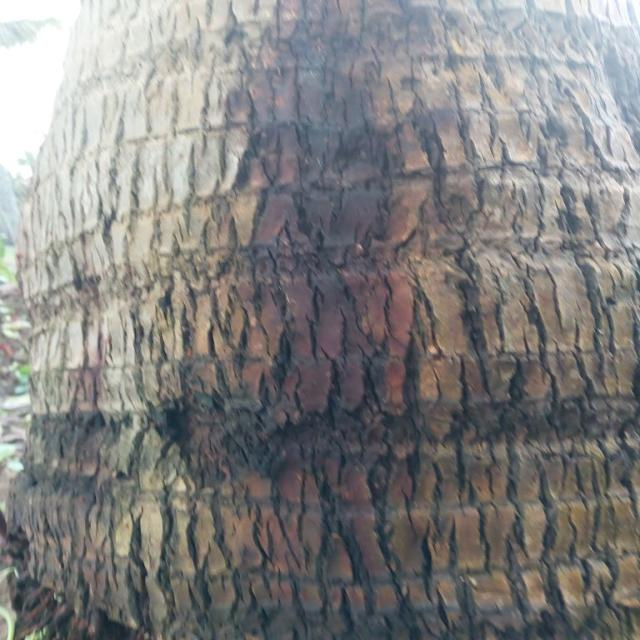stembleeding: (158, 2, 514, 631)
